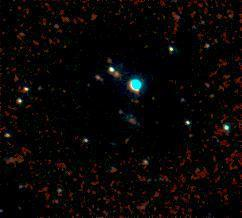star: (210, 113, 240, 143)
